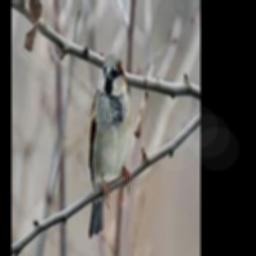Sparrow: (88, 52, 131, 237)
